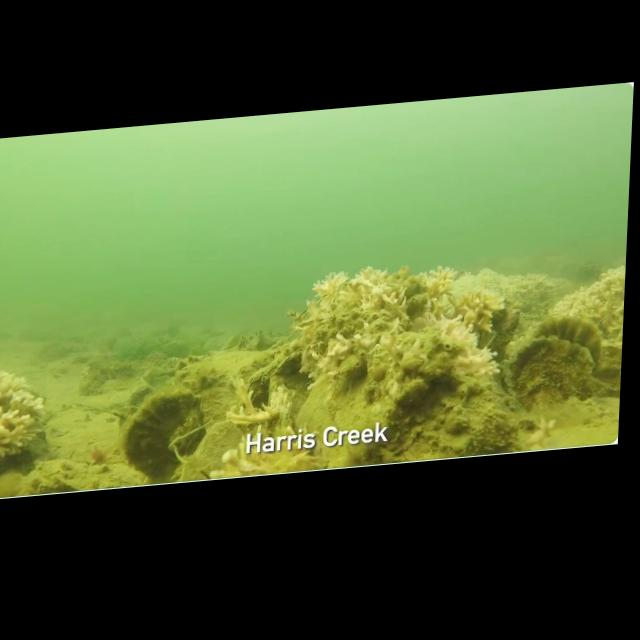Oyster-Closed: (270, 399, 301, 433), (331, 355, 369, 382), (223, 335, 241, 353)
Oyster-Indeterminate: (114, 383, 211, 483), (505, 331, 608, 414), (435, 380, 529, 461), (290, 301, 402, 347), (52, 450, 155, 495), (533, 304, 617, 349), (186, 415, 253, 468), (229, 358, 284, 417), (390, 375, 445, 417), (276, 347, 312, 378), (77, 368, 102, 397), (164, 340, 190, 364), (100, 359, 130, 379), (203, 334, 231, 354), (101, 334, 121, 352), (113, 326, 134, 341), (141, 366, 158, 384)
